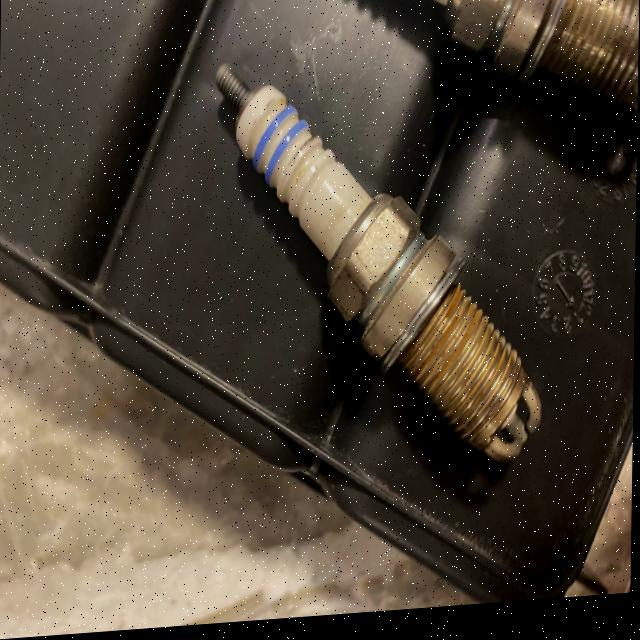spark-plug: (175, 23, 563, 497)
